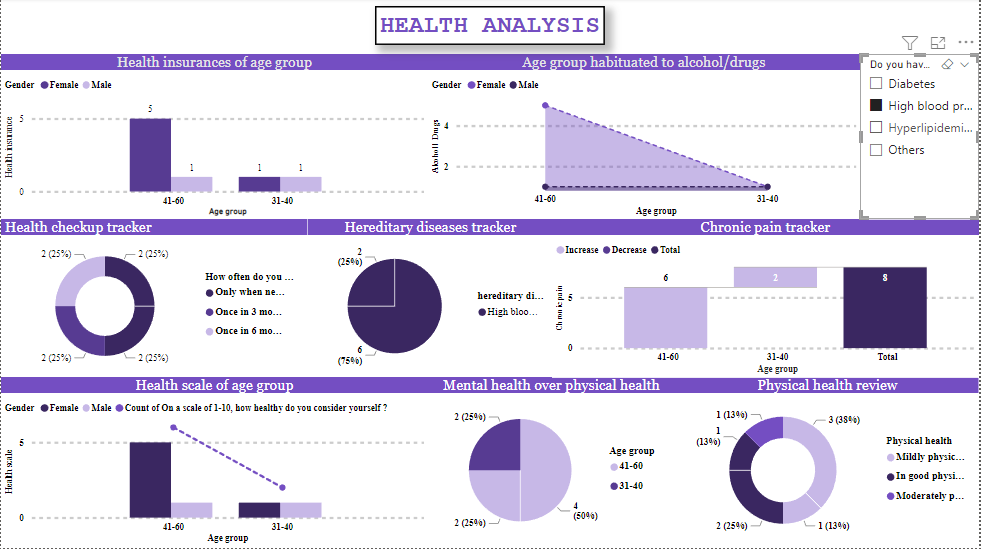

The dashboard page shown, as its layout file describes it:
{"tool":"powerbi","page":{"name":"Page 2","canvas":[1280,720],"ordinal":1},"visuals":[{"type":"areaChart","title":"Age group habituated to alcohol/drugs ","fields":{"Category":["Health Analysis.Age group"],"Y":["CountNonNull(Health Analysis.Are you habituated to alcohol/drugs ?)"],"Series":["Health Analysis.Gender"]},"box":[558.7,72.8,565.5,216.7],"z":0},{"type":"slicer","fields":{"Values":["Health Analysis.Do you have any hereditary conditions/ diseases ?"]},"box":[1124.2,72.8,155.8,216.7],"z":1000},{"type":"clusteredColumnChart","title":"Health insurances of age group","fields":{"Series":["Health Analysis.Gender"],"Category":["Health Analysis.Age group"],"Y":["CountNonNull(Health Analysis.Do you have a health insurance ? )"]},"box":[0,72.8,558.7,216.7],"z":2000},{"type":"pieChart","title":"Hereditary diseases tracker","fields":{"Series":["Health Analysis.Gender"],"Category":["Health Analysis.Do you have any hereditary conditions/ diseases ?"],"Y":["CountNonNull(Health Analysis.Gender)"]},"box":[401.3,289.5,320,206.6],"z":3000},{"type":"donutChart","title":"Health checkup tracker","fields":{"Series":["Health Analysis.Gender"],"Y":["CountNonNull(Health Analysis.Gender)"],"Category":["Health Analysis.How often do you get a health checkup ? "]},"box":[0,289.5,401.3,206.6],"z":4000},{"type":"lineClusteredColumnComboChart","title":"Health scale of age group","fields":{"Category":["Health Analysis.Age group"],"Series":["Health Analysis.Gender"],"Y":["CountNonNull(Health Analysis.On a scale of 1-10, how healthy do you consider yourself ?)"],"Y2":["CountNonNull(Health Analysis.On a scale of 1-10, how healthy do you consider yourself ?)"]},"box":[0,496.1,558.7,223.5],"z":5000},{"type":"donutChart","title":"Physical health review ","fields":{"Y":["CountNonNull(Health Analysis.Gender)"],"Series":["Health Analysis.Gender"],"Category":["Health Analysis.Would you say you are :"]},"box":[883.8,496.1,396.2,223.5],"z":6000},{"type":"pieChart","title":"Mental health over physical health","fields":{"Category":["Health Analysis.Age group"],"Y":["CountNonNull(Health Analysis.Does your mental well being has an affect on your physical health ?)"],"Series":["Health Analysis.Does your mental well being has an affect on your physical health ?"]},"box":[558.3,495.9,325.5,223],"z":7000},{"type":"waterfallChart","title":"Chronic pain tracker ","fields":{"Category":["Health Analysis.Age group"],"Y":["CountNonNull(Health Analysis.Do you experience any chronic pain ?)"]},"box":[721.3,289.5,558.7,208.3],"z":8000},{"type":"shape","box":[489,11.1,300.6,51.3],"z":9000}]}

Visuals, with their boxes in screenshot pixels (x1, y1, x2, y2), scaled from the page's 1280x720 canvas onto the 981x549 screenshot:
"Age group habituated to alcohol/drugs " areaChart: [left=428, top=56, right=862, bottom=221]
slicer - Health Analysis.Do you have any hereditary conditions/ diseases ?: [left=862, top=56, right=980, bottom=221]
"Health insurances of age group" clusteredColumnChart: [left=0, top=56, right=428, bottom=221]
"Hereditary diseases tracker" pieChart: [left=308, top=221, right=553, bottom=378]
"Health checkup tracker" donutChart: [left=0, top=221, right=308, bottom=378]
"Health scale of age group" lineClusteredColumnComboChart: [left=0, top=378, right=428, bottom=548]
"Physical health review " donutChart: [left=677, top=378, right=980, bottom=548]
"Mental health over physical health" pieChart: [left=428, top=378, right=677, bottom=548]
"Chronic pain tracker " waterfallChart: [left=553, top=221, right=980, bottom=380]
shape: [left=375, top=8, right=605, bottom=48]
